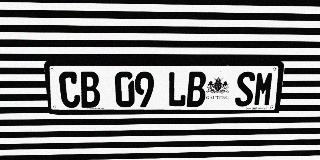0: (114, 72, 135, 107)
9: (135, 72, 154, 107)
B: (79, 72, 101, 108), (186, 72, 207, 107)
C: (58, 72, 81, 108)
L: (167, 72, 187, 107)
M: (253, 72, 275, 106)
S: (234, 72, 256, 106)
